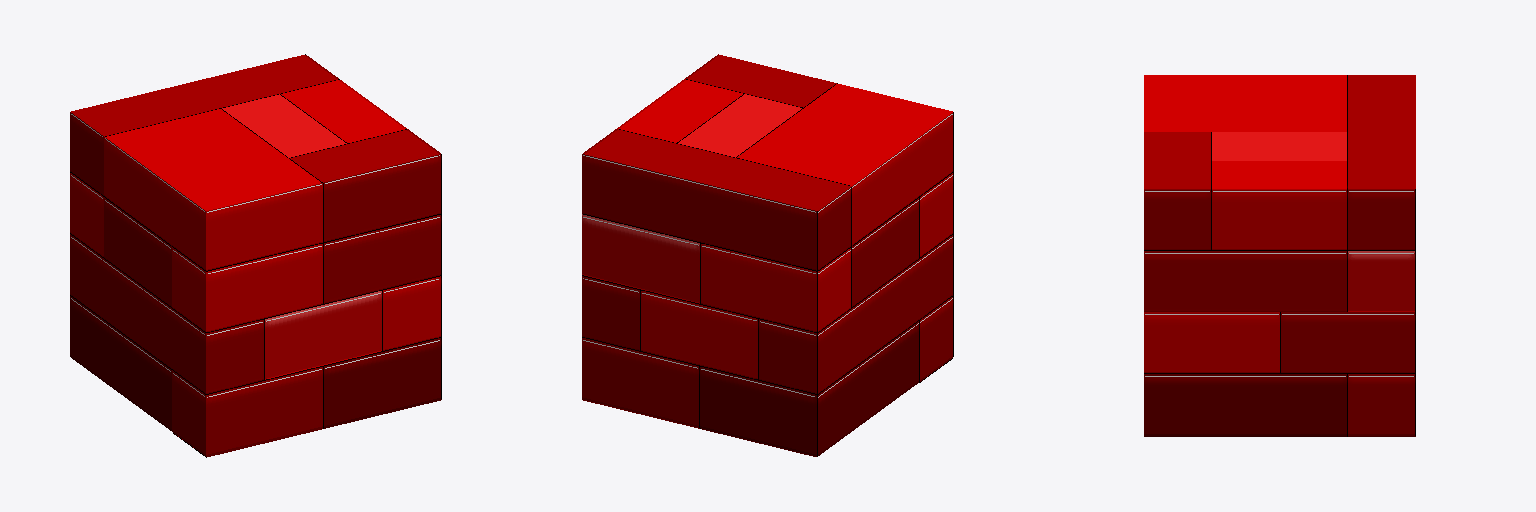
3 views of the same model, side by side, from view 1: azimuth 30°, elevation 25°; view 2: azimuth 150°, elevation 25°; view 3: azimuth 270°, elevation 25° (orthographic).
Visible parts, largest first — view 1: Cube; view 2: Cube; view 3: Cube.
Part boxes in pixels (x1,y1,x2,y2): Cube: (70, 54, 441, 457); Cube: (582, 54, 953, 456); Cube: (1144, 75, 1415, 436).
Size of the model in its own units: 2 by 2 by 2.
Materials: 1 (1 with a texture image).